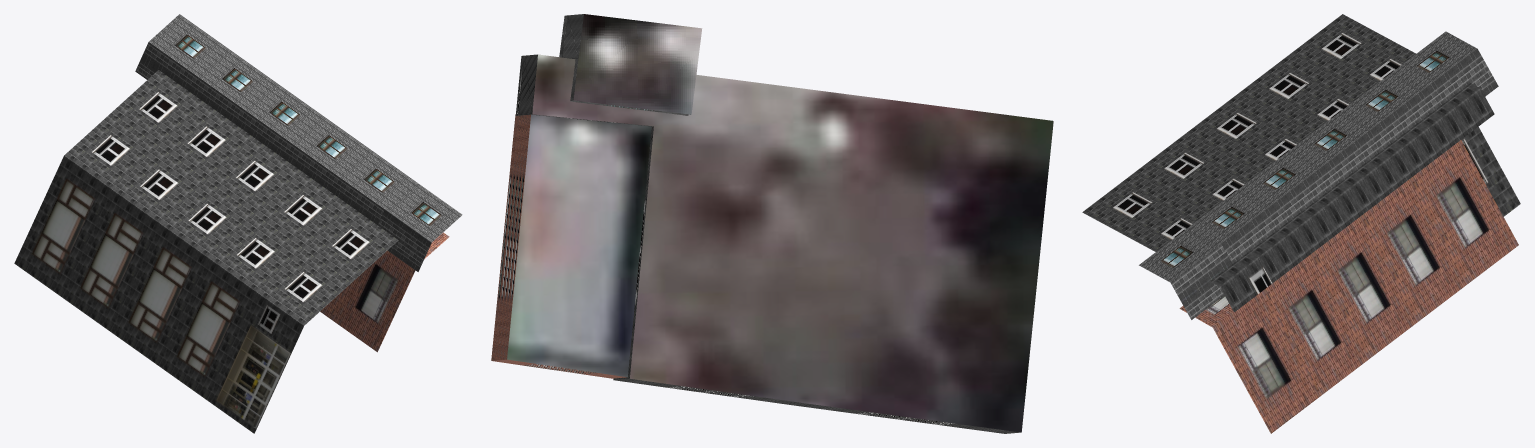
3 renders of one model, left to right at view 1: azimuth 30°, elevation 25°; view 2: azimuth 150°, elevation 25°; view 3: azimuth 270°, elevation 25°, orthographic. The views are drawn at different scales.
Bounding box in the file's own units: 22.33 × 18.49 × 21.9.
10 materials, 10 textured.
